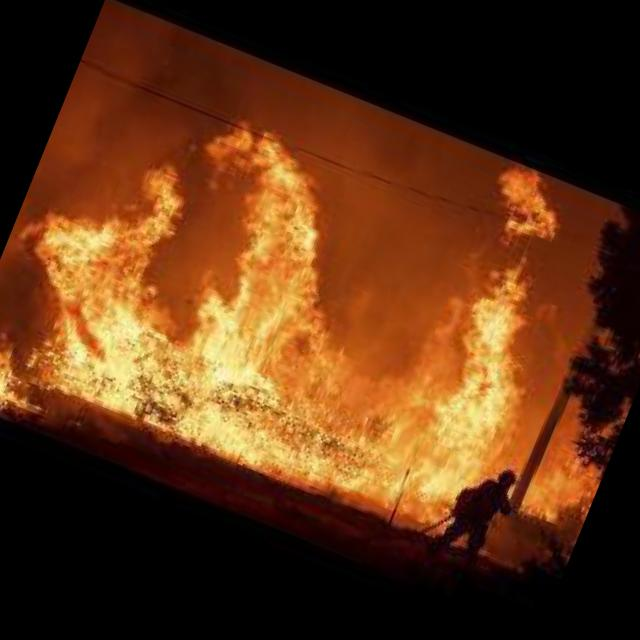fire: (0, 0, 584, 586), (520, 418, 616, 536)
